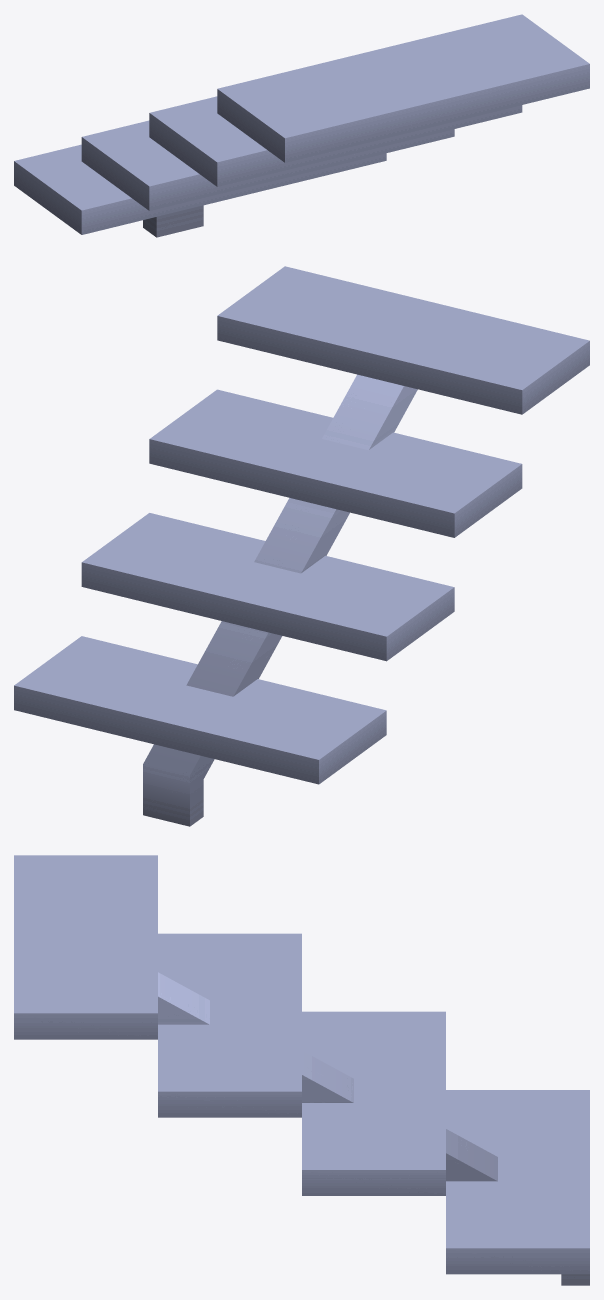
The model's file is stairs-center-short.glb.
3 views of the same model, one above another, from view 1: azimuth 30°, elevation 25°; view 2: azimuth 150°, elevation 25°; view 3: azimuth 270°, elevation 25° (orthographic). The views are drawn at different scales.
Parts seen in each view (by area): view 1: stairs-center-short; view 2: stairs-center-short; view 3: stairs-center-short.
Boxes of the visible parts, <box> form: stairs-center-short: <box>14,14,589,237</box>; stairs-center-short: <box>14,266,589,826</box>; stairs-center-short: <box>14,855,589,1285</box>.
Size of the model in its own units: 1.3 by 1.3 by 2.
Materials: 1 (1 with a texture image).
